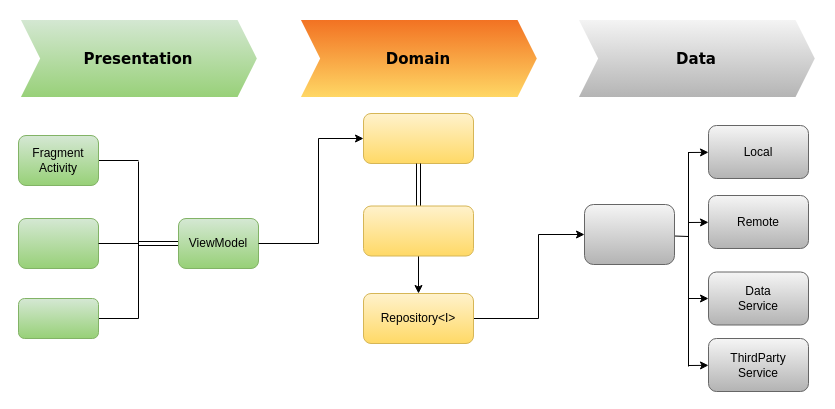
Some shapes in this 835 by 409 pixel diagram are drawn without their labels. The centre of each missing label's shape, as x and y in pixels:
"Business Validation" belongs at pixel 418 230.
"Layout" belongs at pixel 58 318.
"Repository<O>" belongs at pixel 629 234.
"Service" belongs at pixel 58 243.
"UseCase" belongs at pixel 418 138.
